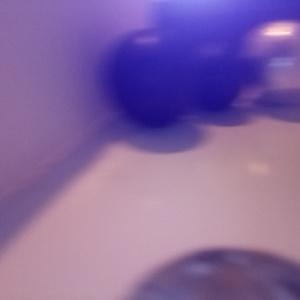alive_ball: (126, 249, 300, 300), (235, 20, 300, 106)
dead_ball: (105, 28, 199, 126), (182, 41, 244, 110)
